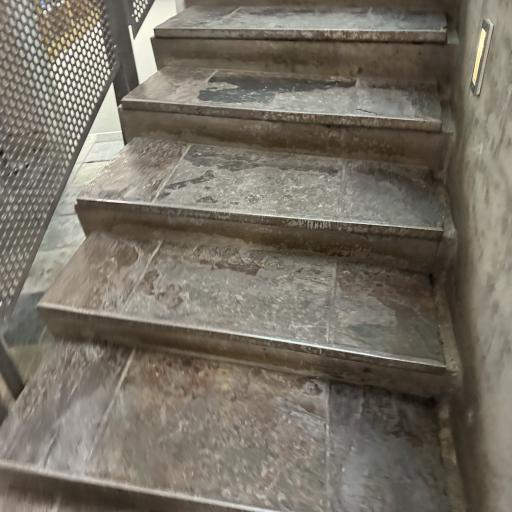Stairs: (0, 0, 462, 512), (0, 343, 451, 512), (38, 228, 450, 396), (76, 138, 451, 273), (120, 43, 453, 174), (152, 5, 458, 98), (154, 6, 447, 43)
